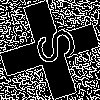S: (25, 25, 79, 71)
